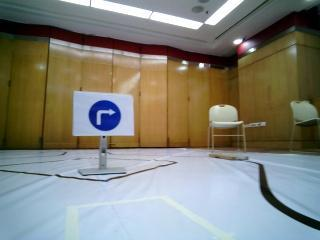right: (70, 89, 133, 136)
